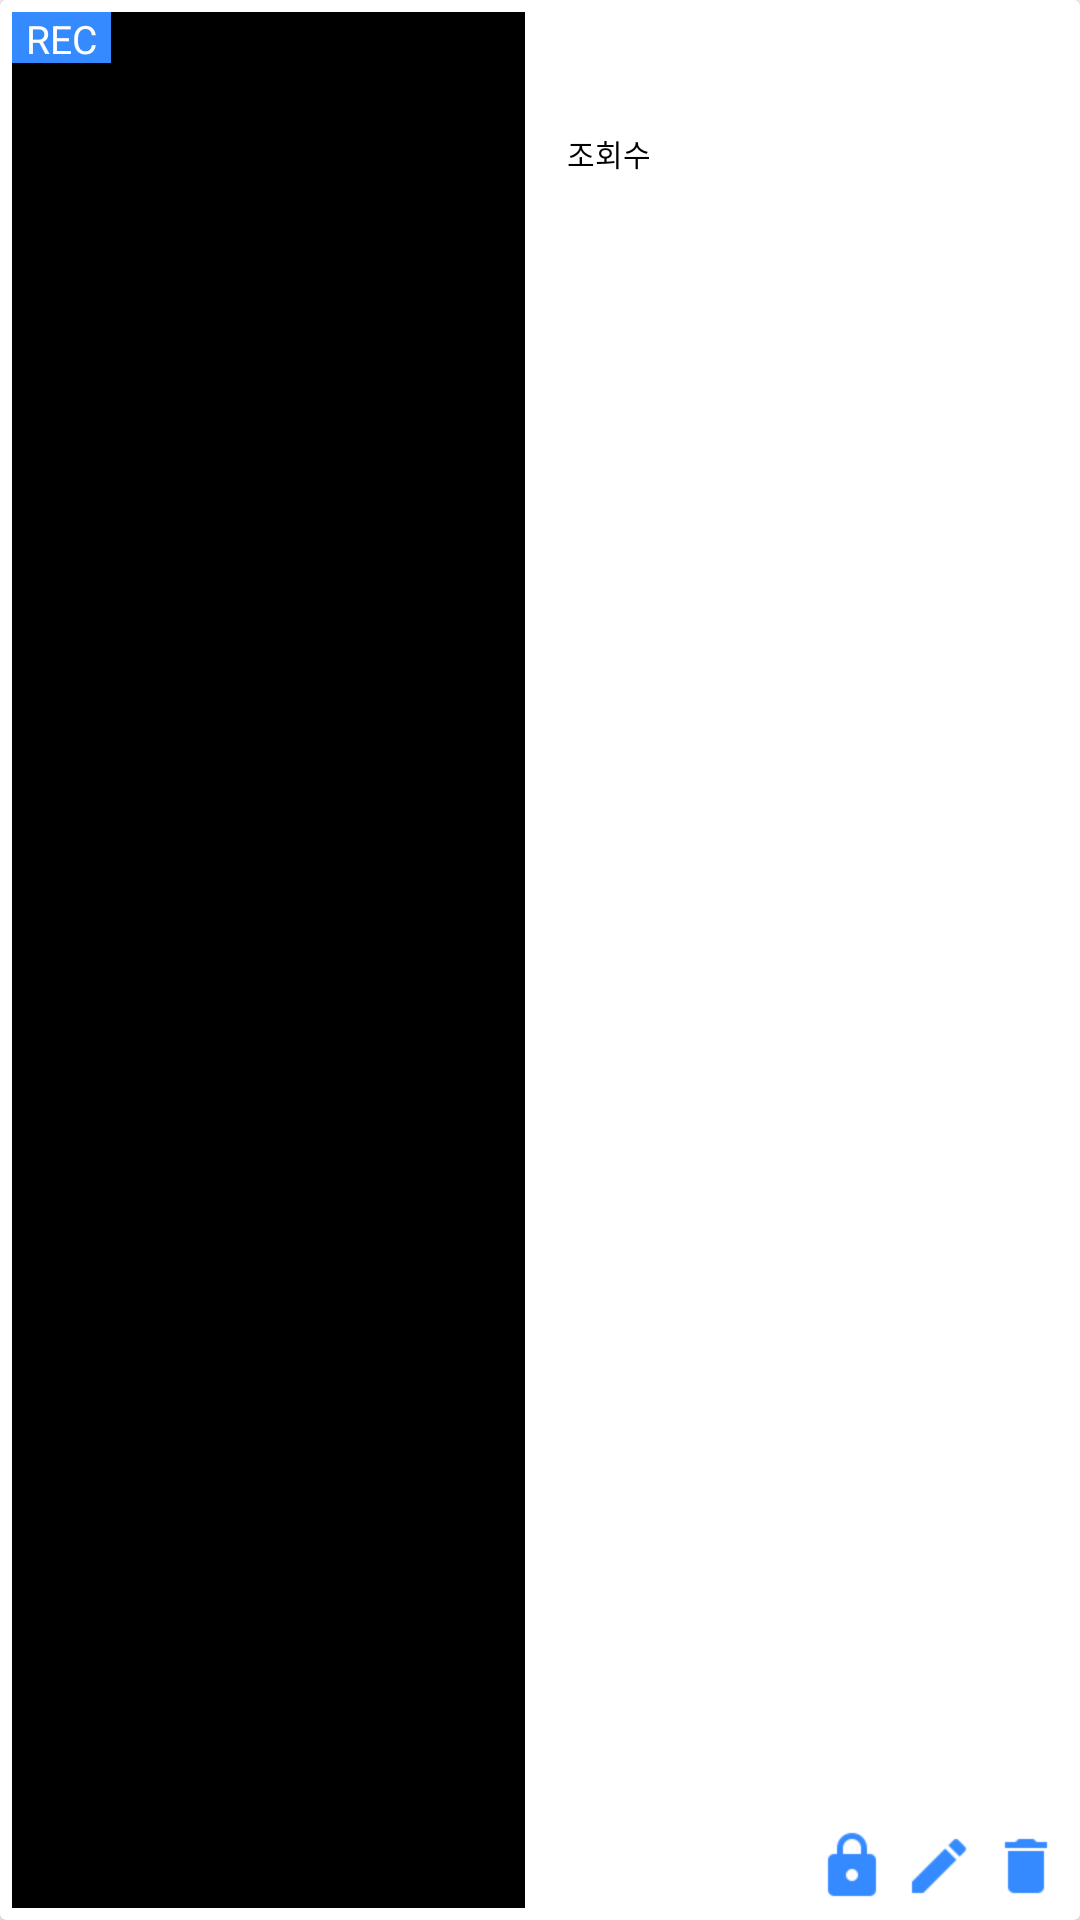

Icon bounding boxes for this 1080px×1920px phone screenshot, format (x1, y1, x2, y2):
delete: (1004, 1838, 1048, 1894)
lock: (827, 1832, 877, 1897)
pencil: (911, 1838, 967, 1894)
